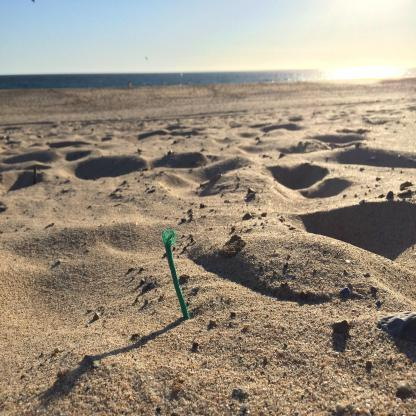diger: (162, 228, 191, 321)
